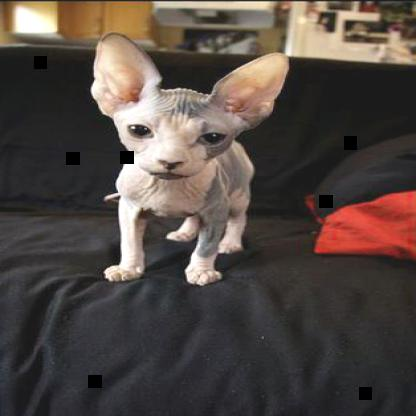cat: (92, 31, 290, 287)
